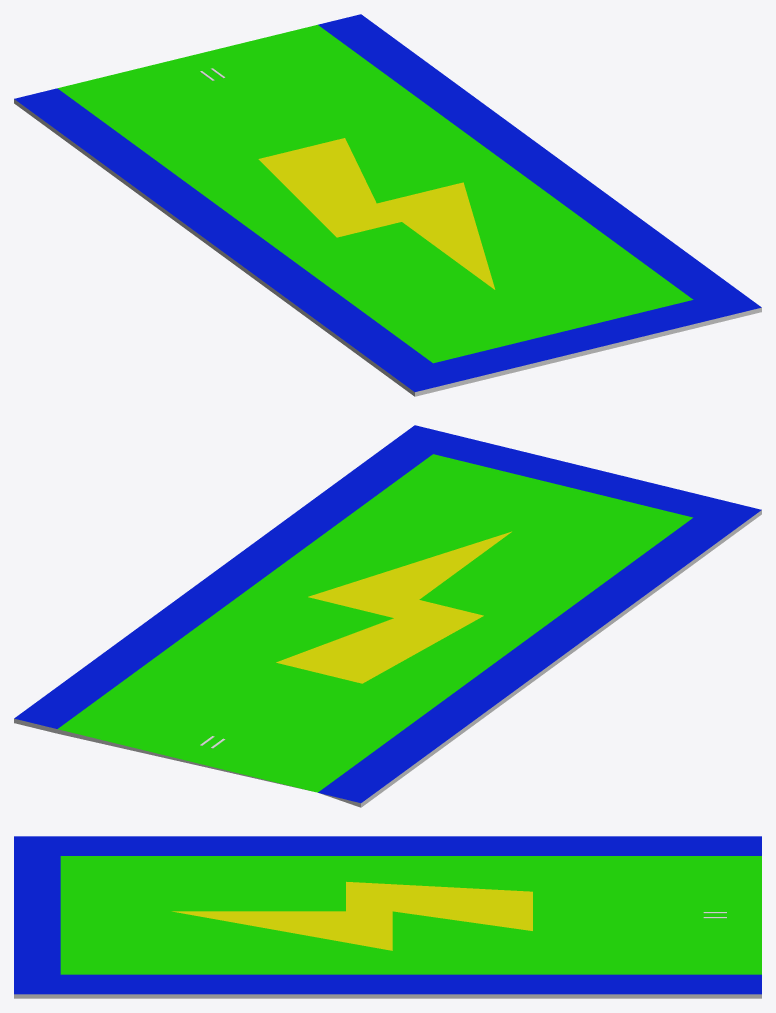
The model's file is sarjistasyonukutusuz.dae.
3 renders of one model, top to bottom at view 1: azimuth 30°, elevation 25°; view 2: azimuth 150°, elevation 25°; view 3: azimuth 270°, elevation 25°, orthographic. The views are drawn at different scales.
Visible parts, largest first — view 1: Sarjdeneme; view 2: Sarjdeneme; view 3: Sarjdeneme.
Boxes of the visible parts, bbox=[...] form: Sarjdeneme: bbox=[14, 14, 761, 396]; Sarjdeneme: bbox=[14, 425, 761, 807]; Sarjdeneme: bbox=[14, 836, 761, 998].
Bounding box in the file's own units: 0.8 × 1.6 × 0.011.
